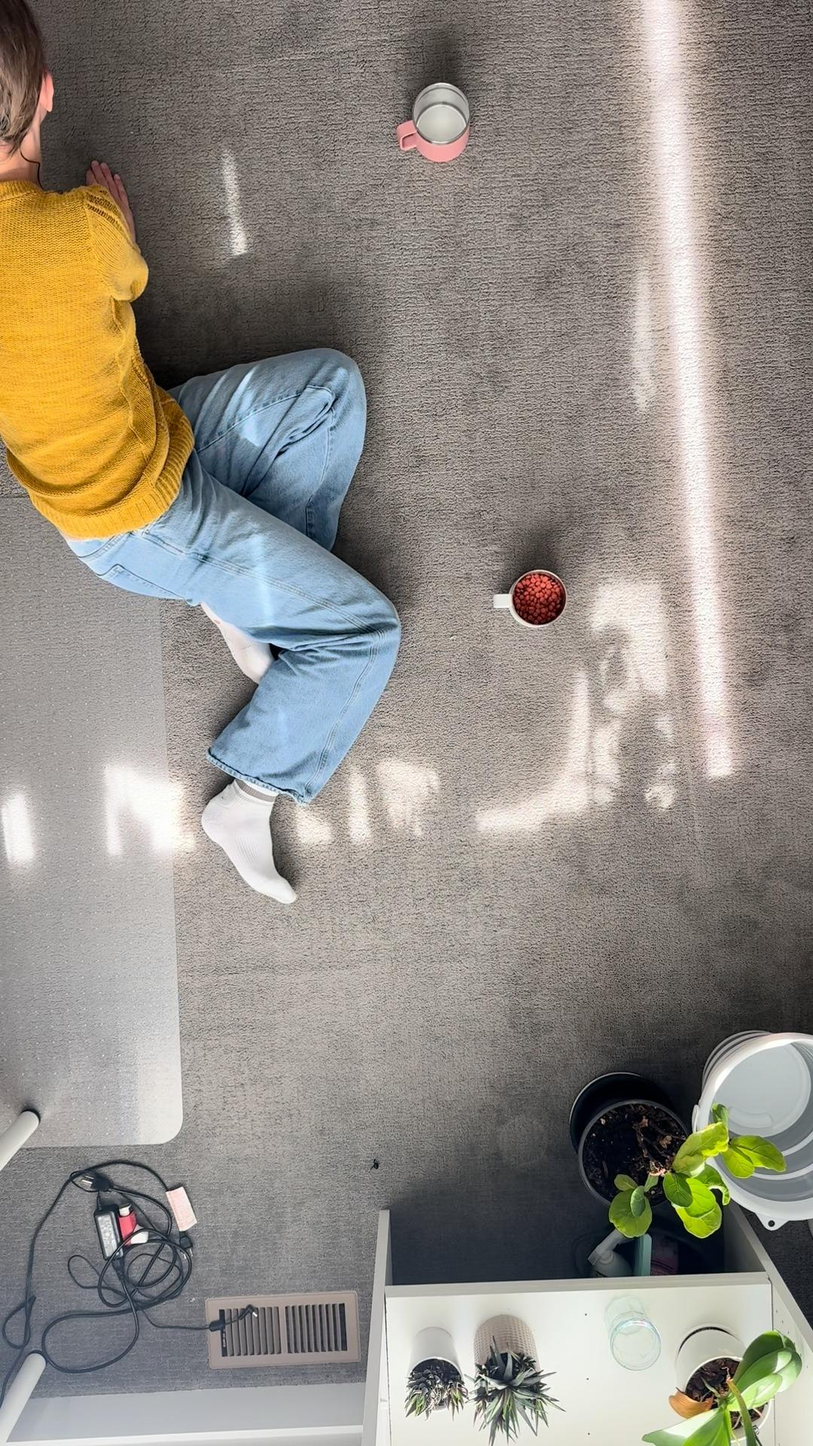IBC: (389, 75, 479, 167), (487, 550, 582, 634)
